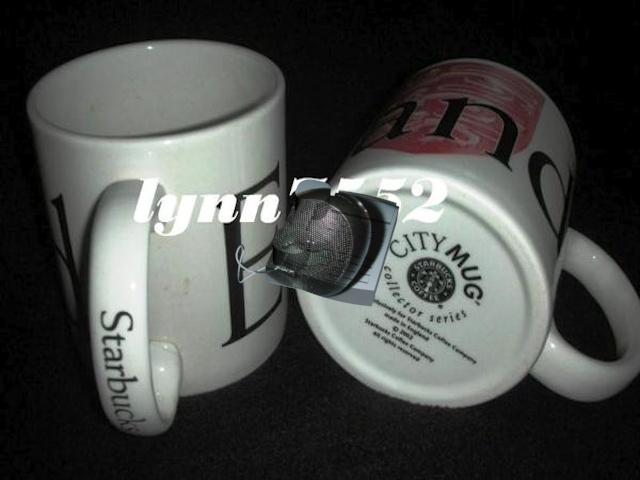phone: (225, 176, 401, 320)
